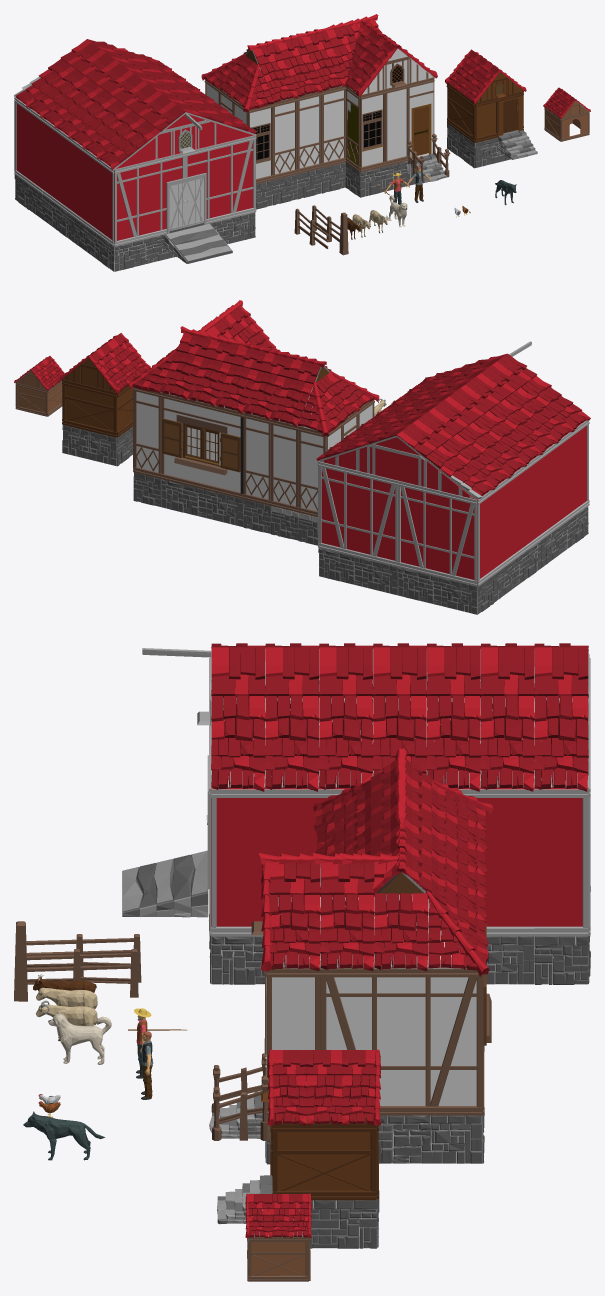
Rendered from Suru_Konut_hayvan_mesh_rigsiz4.fbx.
3 renders of one model, top to bottom at view 1: azimuth 30°, elevation 25°; view 2: azimuth 150°, elevation 25°; view 3: azimuth 270°, elevation 25°, orthographic. The views are drawn at different scales.
Parts seen in each view (by area): view 1: Ciftlik, konut, Kumes, Kopek_kulube, cit_Son, cit_devam, Kangal; view 2: Ciftlik, konut, Kumes, Kopek_kulube; view 3: Ciftlik, konut, Kumes, Kopek_kulube, cit_Son, cit_devam, Kangal, Kurt, Keci001, Keci002.
Boxes of the visible parts, x1,y1,x2,y2 form: Ciftlik: (14, 39, 256, 271); konut: (201, 14, 450, 209); Kumes: (445, 49, 537, 168); Kopek_kulube: (543, 87, 590, 141); cit_Son: (312, 205, 348, 255); cit_devam: (294, 208, 328, 248); Kangal: (388, 195, 407, 226); Ciftlik: (316, 341, 590, 614); konut: (128, 300, 379, 545); Kumes: (59, 333, 150, 466); Kopek_kulube: (14, 356, 64, 416); Ciftlik: (122, 643, 590, 984); konut: (209, 748, 493, 1164); Kumes: (217, 1049, 381, 1248); Kopek_kulube: (245, 1193, 311, 1281); cit_Son: (14, 921, 138, 1001); cit_devam: (26, 934, 141, 982); Kangal: (48, 1013, 111, 1064); Kurt: (23, 1111, 105, 1160); Keci001: (36, 987, 97, 1008); Keci002: (36, 1000, 97, 1040).
Bounding box in the file's own units: 2889 × 817 × 1550.
Materials: 1 (1 with a texture image).
